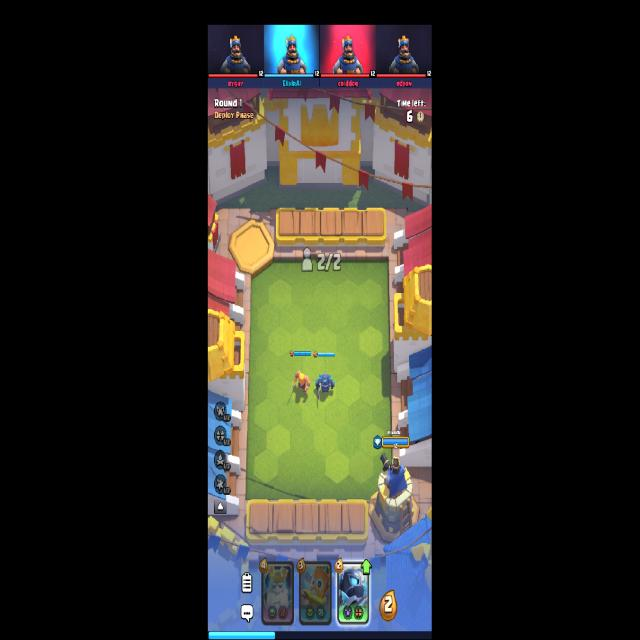barbarian: (287, 369, 310, 404)
card_dart_goblin: (299, 560, 332, 626)
card_mini_pekka: (337, 561, 370, 626)
card_royal_ghost: (261, 560, 295, 625)
mini_pekka: (315, 373, 335, 401)
